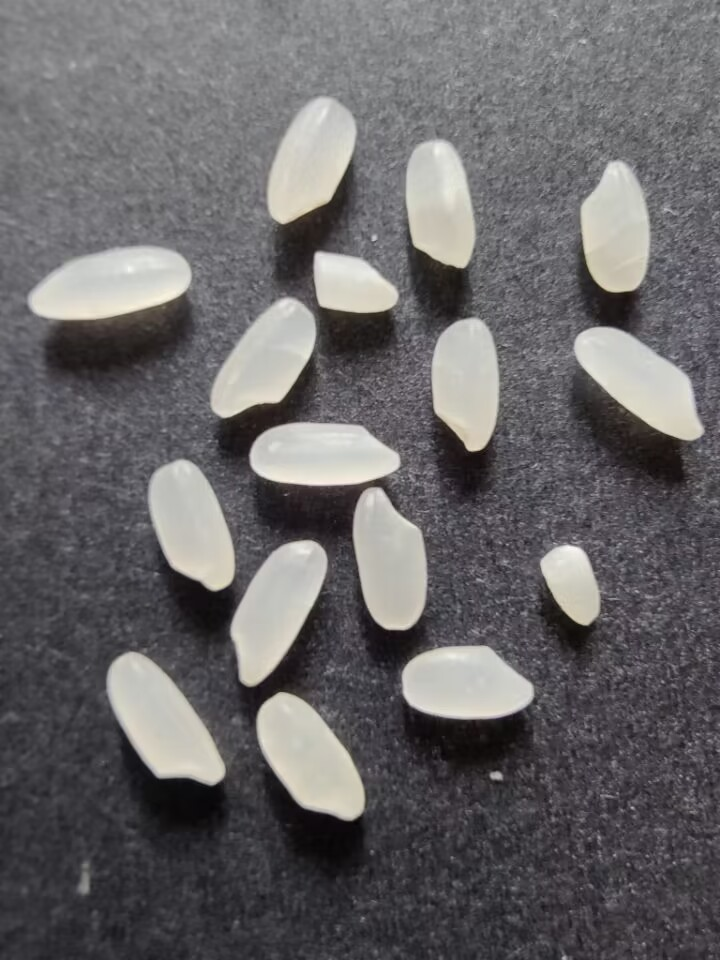broken: (305, 246, 406, 315), (535, 541, 602, 629)
rice: (100, 649, 231, 793), (569, 323, 706, 445), (226, 534, 331, 688), (256, 689, 368, 824), (23, 243, 197, 327), (209, 293, 320, 422), (144, 458, 238, 597), (262, 92, 358, 226), (351, 482, 429, 632), (396, 640, 538, 720), (245, 421, 403, 489), (576, 156, 653, 295), (426, 316, 503, 455), (403, 135, 479, 272)
